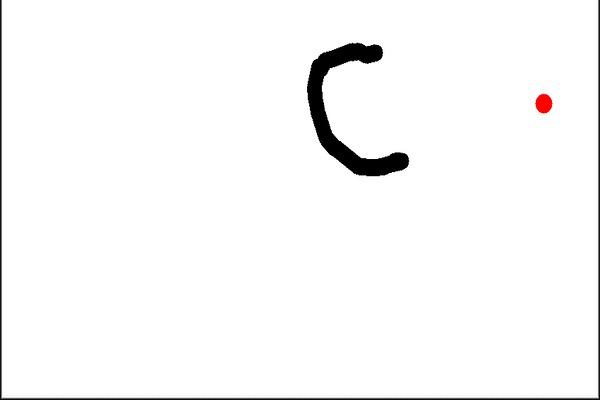C: (302, 33, 413, 179)
